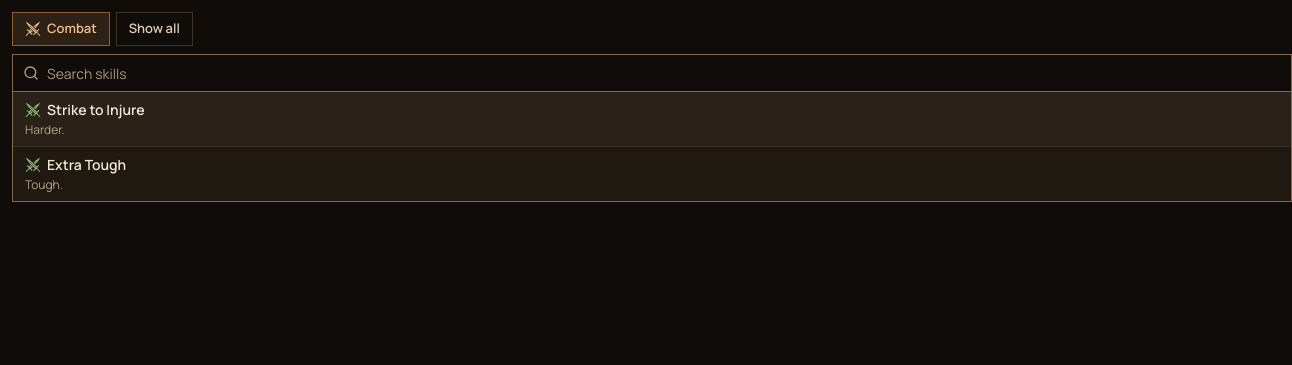
Scenario: The skill picker › greys the rest behind Show all with the warnings, still pickable
The image size is (1292, 365).
Later steps or results of the test are not shown.
Expected: the option "Strike to Injure Harder." is shown, x1=13 y1=92 x2=1291 y2=146
Click the button "Show all".
click(154, 29)  # box x1=116 y1=12 x2=193 y2=46
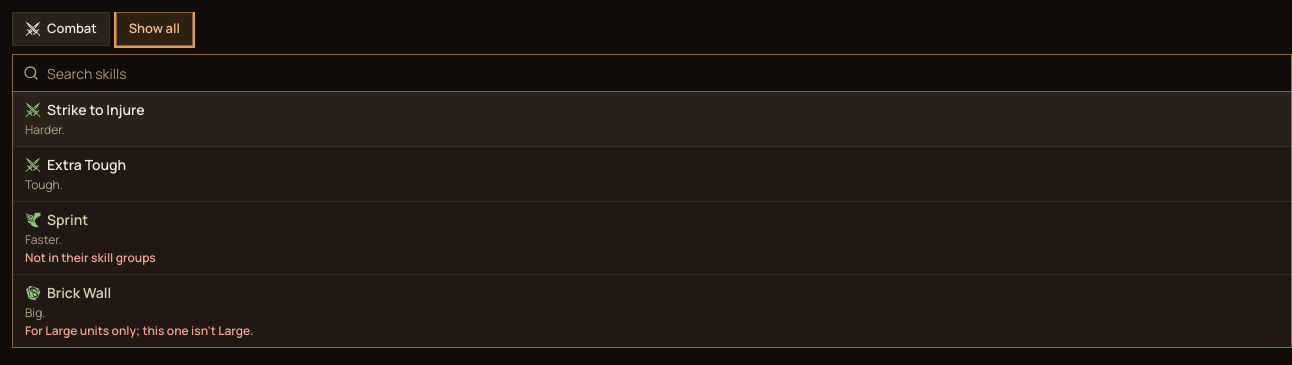
Result: the option "Sprint Faster. Not in their skill groups" is shown at x1=13 y1=201 x2=1291 y2=274
Result: the option "Brick Wall Big. For Large units only; this one isn't Large." is shown at x1=13 y1=274 x2=1291 y2=347
